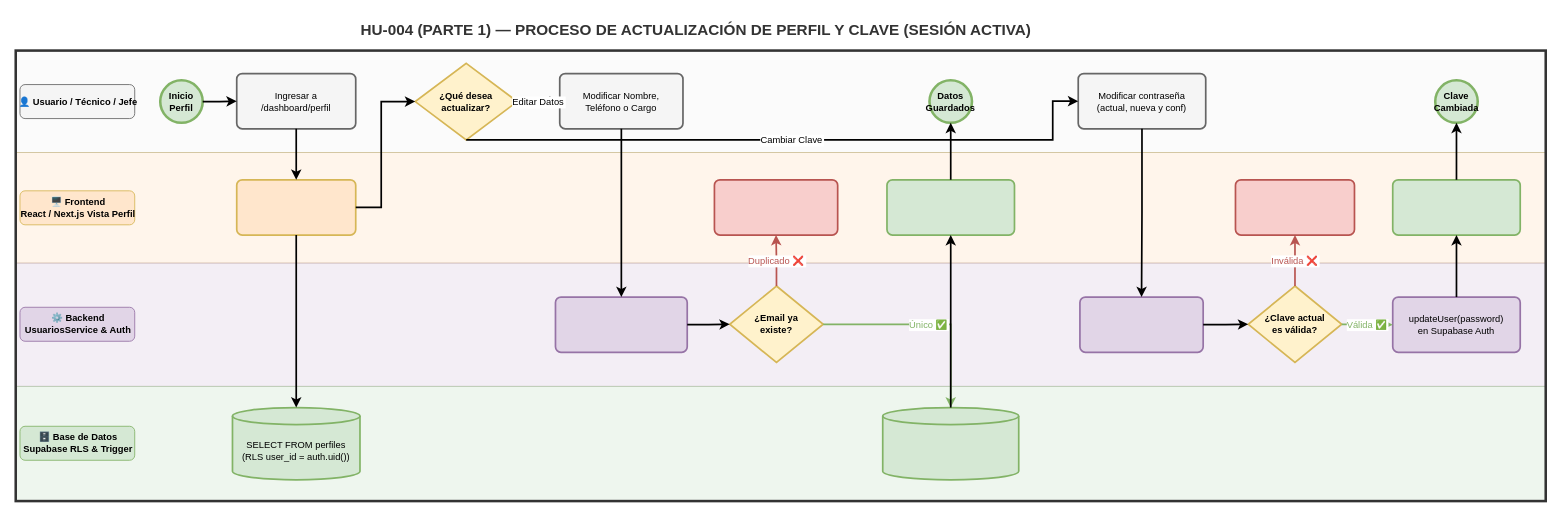
Some shapes in this 1561 by 517 pixel diagram are drawn without their labels. The centre of each missing label's shape, as x and y in pixels:
Re-autenticar con contraseña actual: the point at 1141,324
Solicitar perfil y prellenar campos: the point at 295,206
UPDATE public.perfiles Dispara trigger de historial: the point at 950,443
updateProfileData() Validar duplicidad email: the point at 621,324
⚠️ Alerta: Contraseña actual incorrecta: the point at 1294,206
⚠️ Alerta: El correo ya se encuentra registrado: the point at 775,206
🎉 Alerta: Contraseña actualizada exitosamente: the point at 1456,206
🎉 Alerta: Datos de perfil actualizados exitosamente: the point at 950,206
